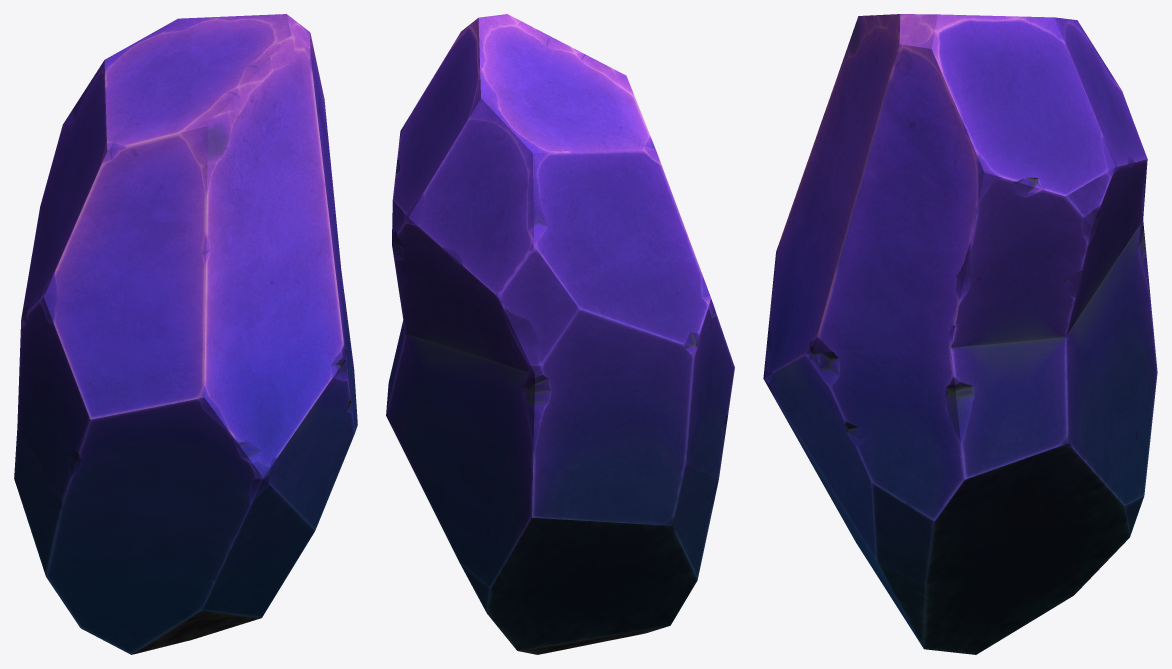
The model's file is L_rocks_06.glb.
3 renders of one model, left to right at view 1: azimuth 30°, elevation 25°; view 2: azimuth 150°, elevation 25°; view 3: azimuth 270°, elevation 25°, orthographic. The views are drawn at different scales.
Visible parts, largest first — view 1: L_Rock_06; view 2: L_Rock_06; view 3: L_Rock_06.
Boxes of the visible parts, x1,y1,x2,y2 form: L_Rock_06: (14, 14, 357, 654); L_Rock_06: (386, 14, 734, 654); L_Rock_06: (763, 14, 1157, 654).
Size of the model in its own units: 1.39 by 2.54 by 1.33.
1 material, 1 textured.
